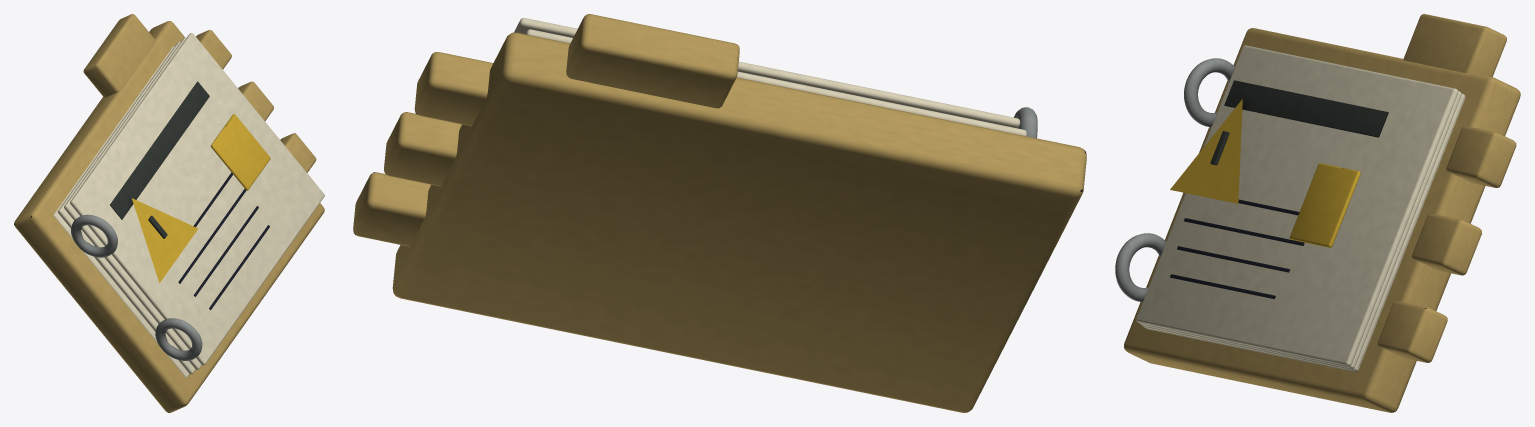
3 views of the same model, side by side, from view 1: azimuth 30°, elevation 25°; view 2: azimuth 150°, elevation 25°; view 3: azimuth 270°, elevation 25° (orthographic). The views are drawn at different scales.
Visible parts, largest first — view 1: Rigid report cover; view 2: Rigid report cover; view 3: Rigid report cover.
Boxes of the visible parts, box(x1,y1,x2,y2) form: Rigid report cover: box(14, 14, 324, 412); Rigid report cover: box(353, 14, 1086, 412); Rigid report cover: box(1115, 14, 1520, 412).
Size of the model in its own units: 1.4 by 1.1 by 1.03.
1 material, 1 textured.
